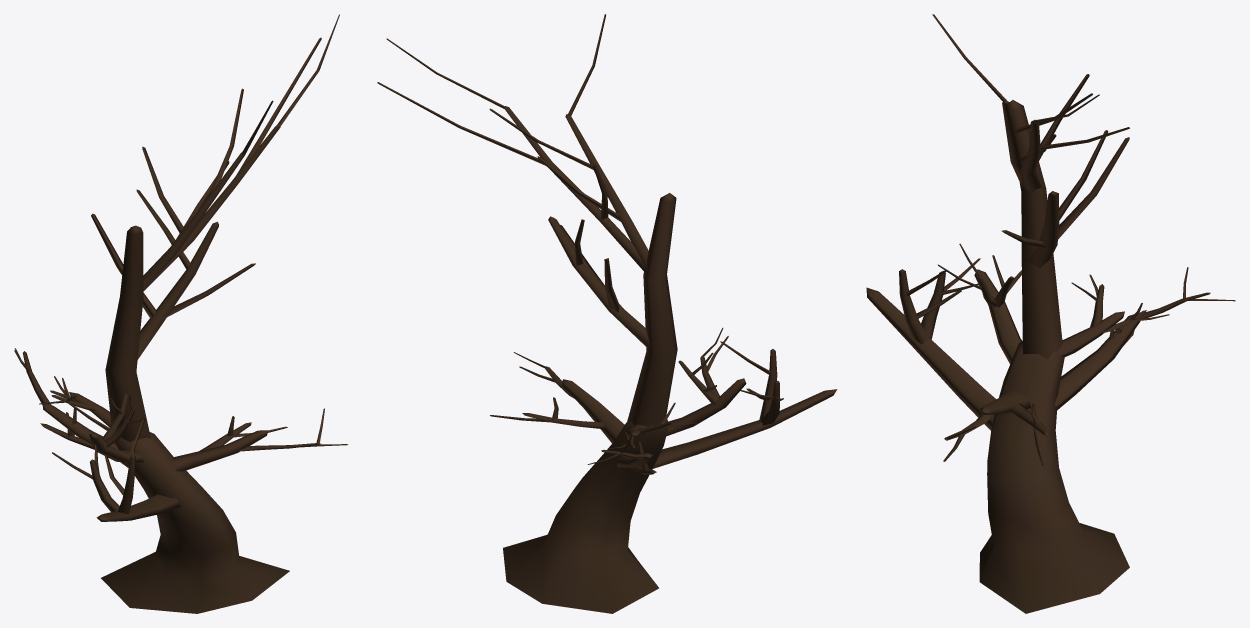
File: tree-bare-oak-c.glb
3 renders of one model, left to right at view 1: azimuth 30°, elevation 25°; view 2: azimuth 150°, elevation 25°; view 3: azimuth 270°, elevation 25°, orthographic. The views are drawn at different scales.
Parts seen in each view (by area): view 1: tree-bare-oak-c; view 2: tree-bare-oak-c; view 3: tree-bare-oak-c.
Boxes of the visible parts, <box> form: tree-bare-oak-c: <box>14,14,348,613</box>; tree-bare-oak-c: <box>377,14,837,613</box>; tree-bare-oak-c: <box>866,14,1235,613</box>.
Size of the model in its own units: 1.19 by 1.7 by 1.
